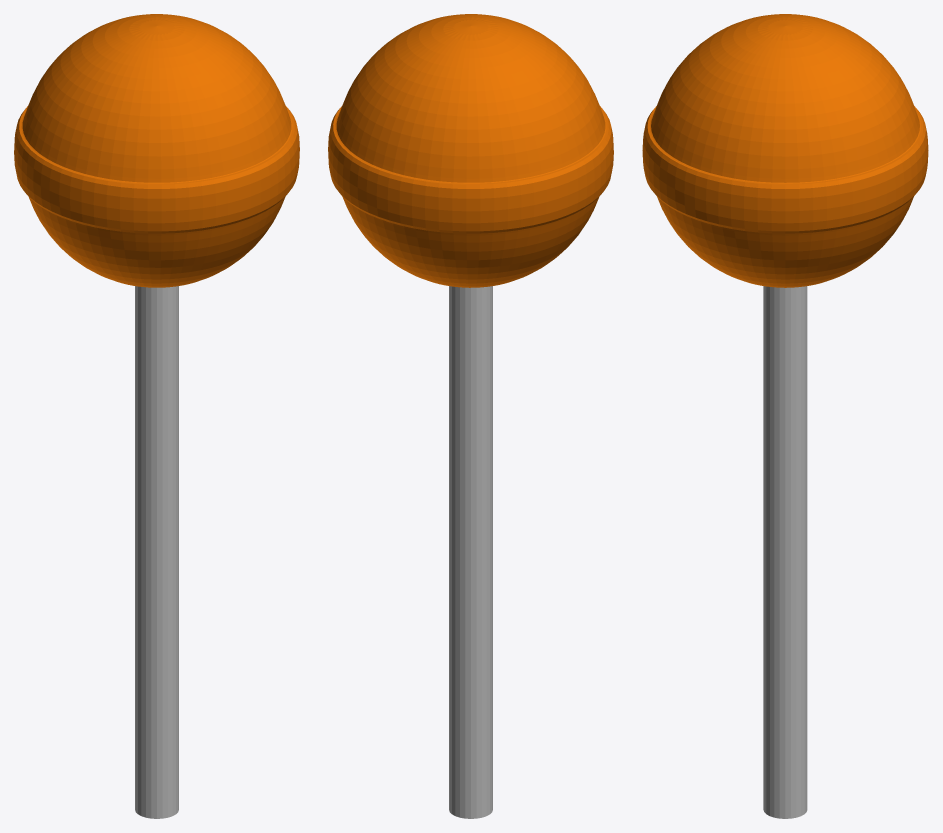
The model's file is Lollipop.glb.
The picture shows the model from 3 angles, left to right: view 1: azimuth 30°, elevation 25°; view 2: azimuth 150°, elevation 25°; view 3: azimuth 270°, elevation 25°; orthographic projection.
Parts seen in each view (by area): view 1: Lolli, Stick; view 2: Lolli, Stick; view 3: Lolli, Stick.
Part boxes in pixels (bbox=[...]): Lolli: bbox=[14, 14, 299, 287]; Stick: bbox=[135, 286, 178, 818]; Lolli: bbox=[328, 14, 613, 287]; Stick: bbox=[449, 286, 492, 818]; Lolli: bbox=[642, 14, 928, 287]; Stick: bbox=[763, 286, 807, 818].
Bounding box in the file's own units: 0.4287 × 1.3 × 0.4287.
